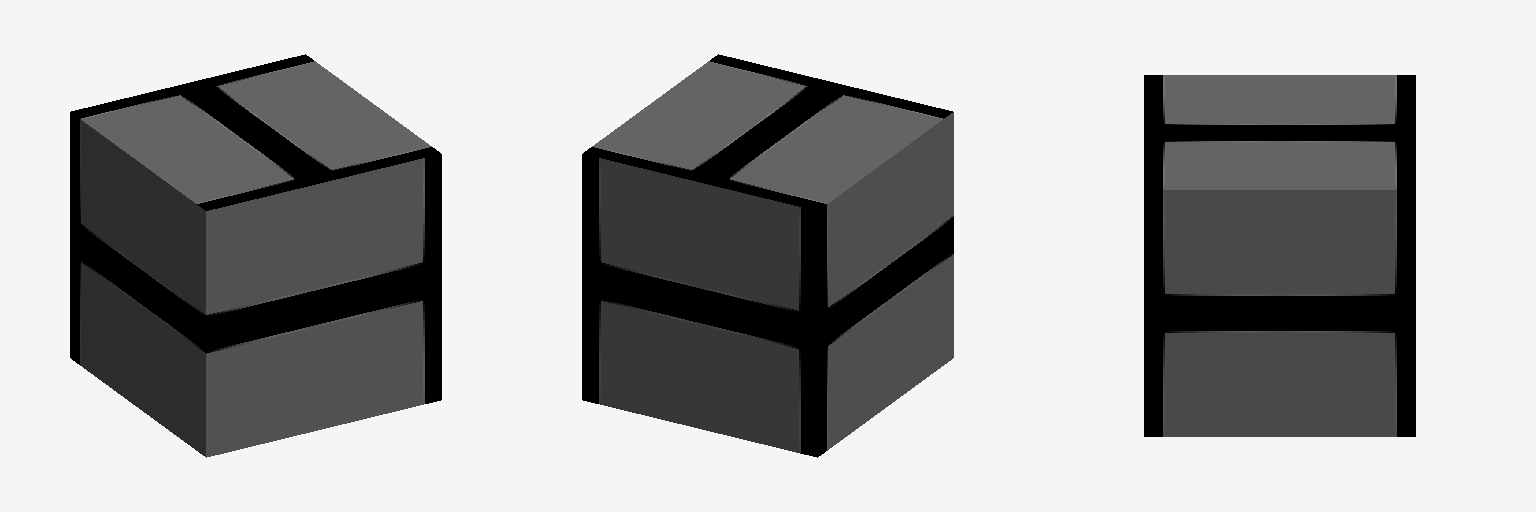
3 views of the same model, side by side, from view 1: azimuth 30°, elevation 25°; view 2: azimuth 150°, elevation 25°; view 3: azimuth 270°, elevation 25° (orthographic).
Parts seen in each view (by area): view 1: Cube; view 2: Cube; view 3: Cube.
Boxes of the visible parts, <box> form: Cube: <box>70,54,441,457</box>; Cube: <box>582,54,953,457</box>; Cube: <box>1144,75,1415,436</box>.
Size of the model in its own units: 2 by 2 by 2.
1 materials, 1 textured.